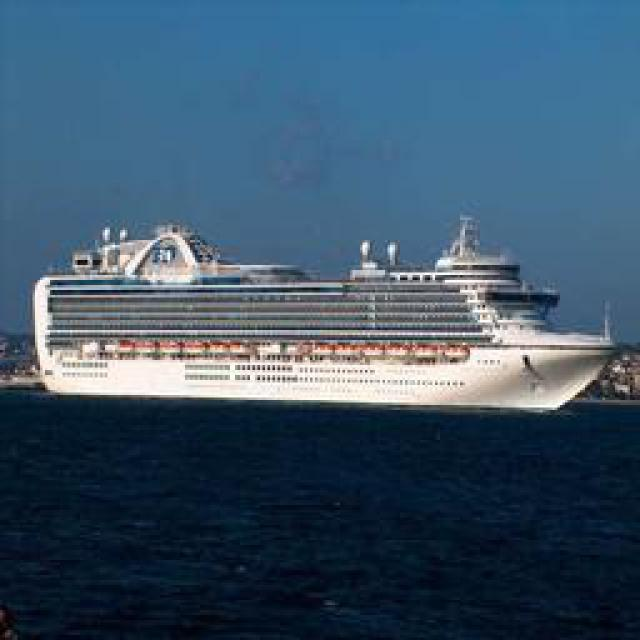Ship: (32, 206, 625, 411)
